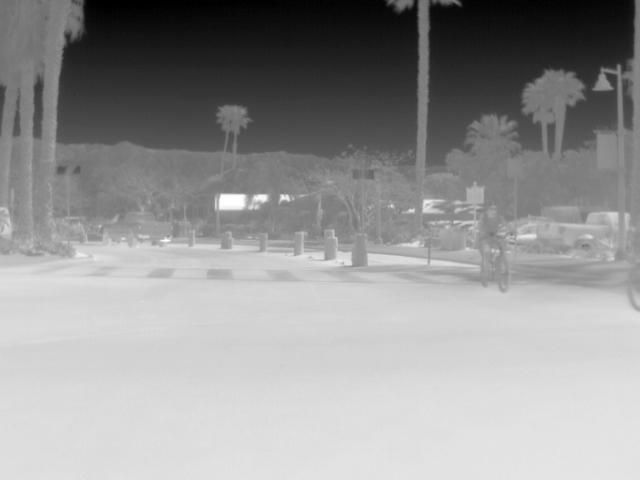car: (535, 209, 621, 256), (100, 210, 175, 247), (516, 222, 547, 245), (454, 220, 477, 230)
person: (475, 204, 511, 282)
